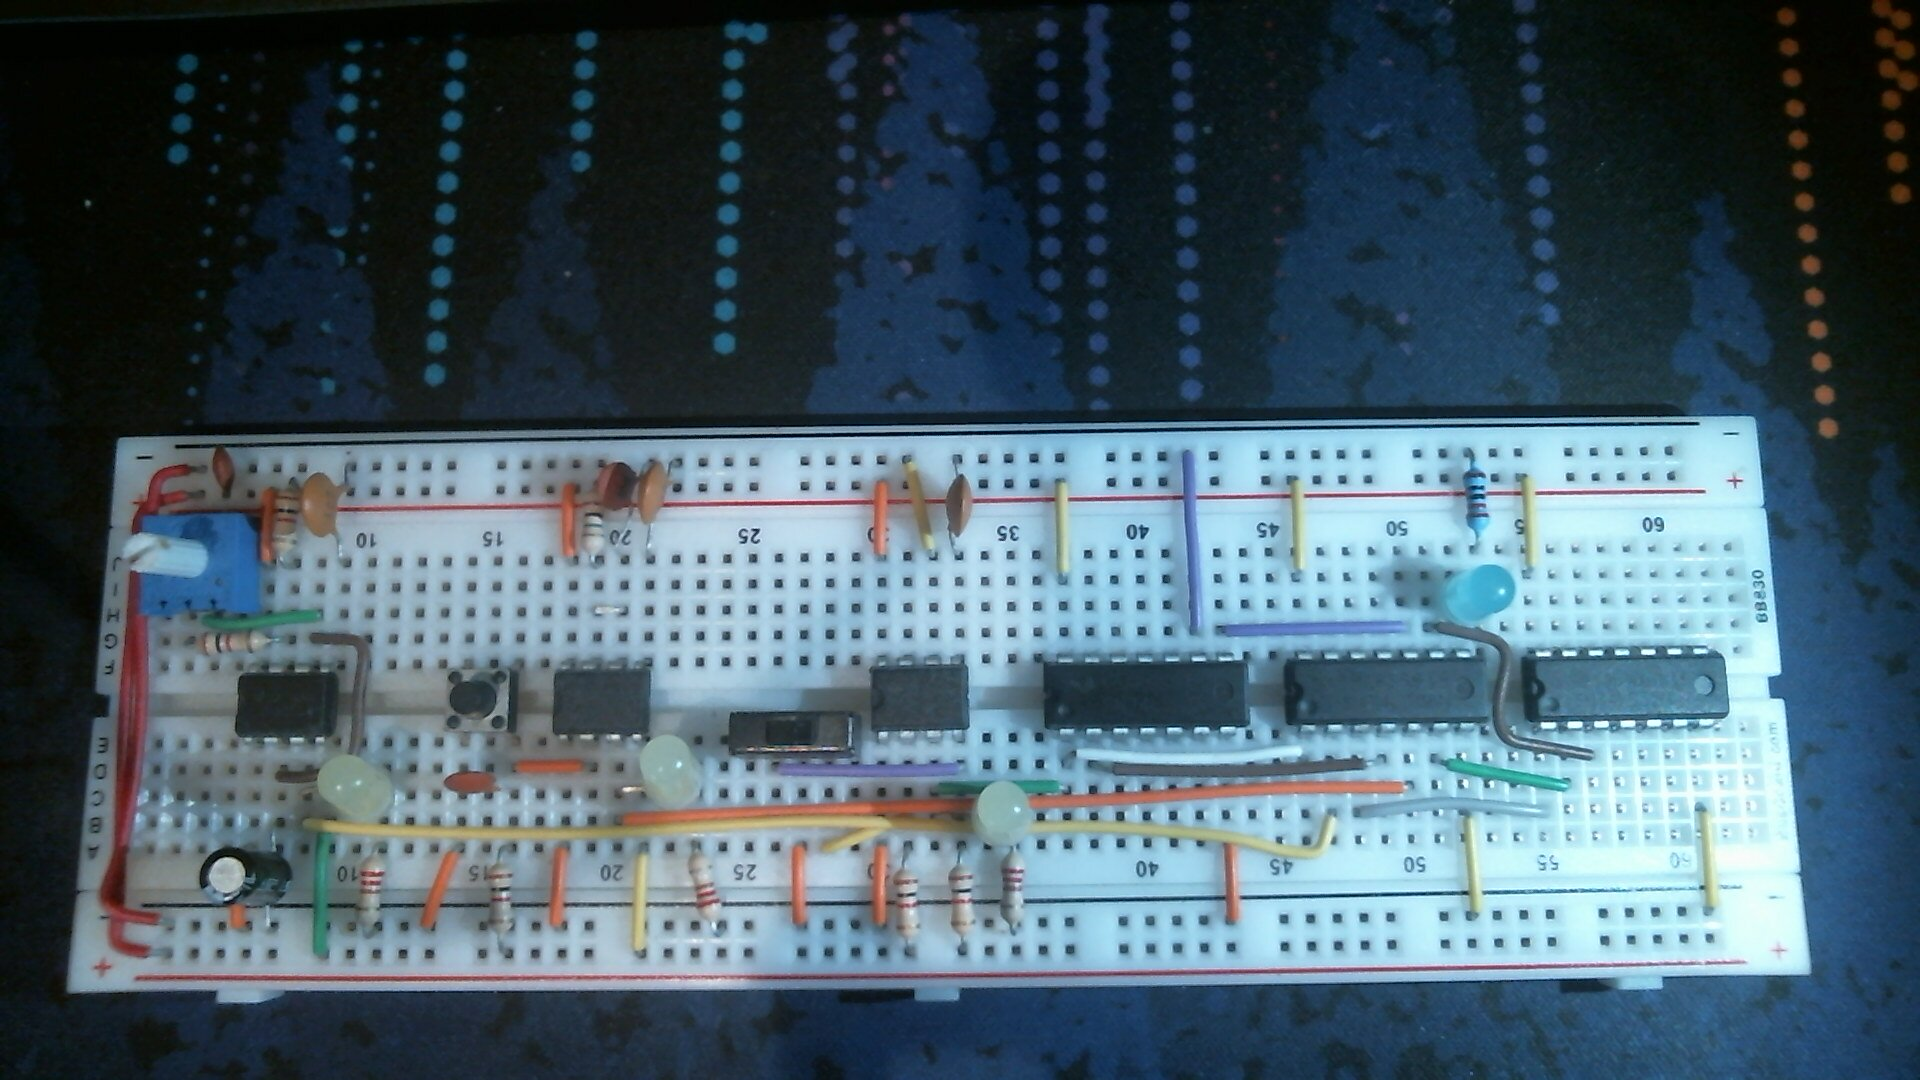IC: (1039, 651, 1253, 745), (1516, 644, 1731, 732), (1280, 649, 1491, 736), (866, 658, 972, 744), (233, 665, 342, 746), (550, 659, 655, 742)
LED: (315, 752, 396, 825), (637, 732, 705, 812), (1443, 562, 1519, 626), (971, 778, 1036, 851)
ceramic_capacitor: (301, 471, 353, 543), (636, 459, 670, 533), (595, 459, 640, 514), (942, 472, 975, 542), (439, 769, 504, 798), (207, 444, 239, 495)
electrolytic_capacitor: (196, 843, 295, 913)
resistor: (684, 845, 727, 928), (349, 845, 386, 936), (483, 857, 518, 942), (945, 861, 980, 945), (891, 865, 924, 951), (266, 484, 302, 563), (190, 628, 278, 658), (1458, 465, 1494, 539), (997, 851, 1029, 932), (578, 488, 603, 559)
